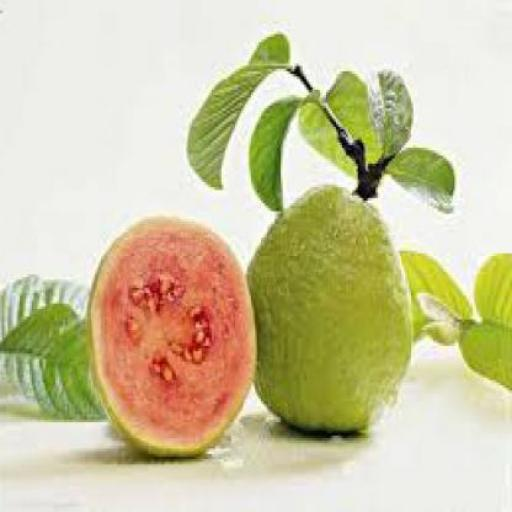biodegradable: (89, 211, 261, 460), (247, 179, 413, 433), (184, 21, 290, 187), (2, 300, 93, 436), (300, 68, 374, 172), (460, 250, 511, 389), (248, 93, 306, 211), (408, 250, 472, 349), (2, 271, 85, 333), (380, 144, 456, 208), (368, 63, 415, 156), (418, 290, 463, 346)
